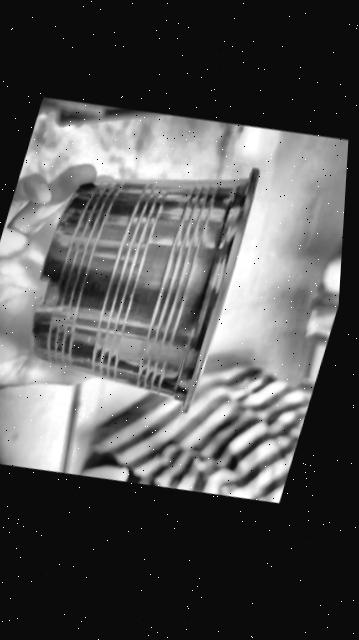pot: (31, 168, 258, 411)
